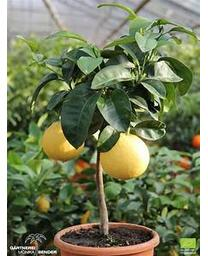lemon: (101, 131, 149, 181), (42, 120, 86, 161)
